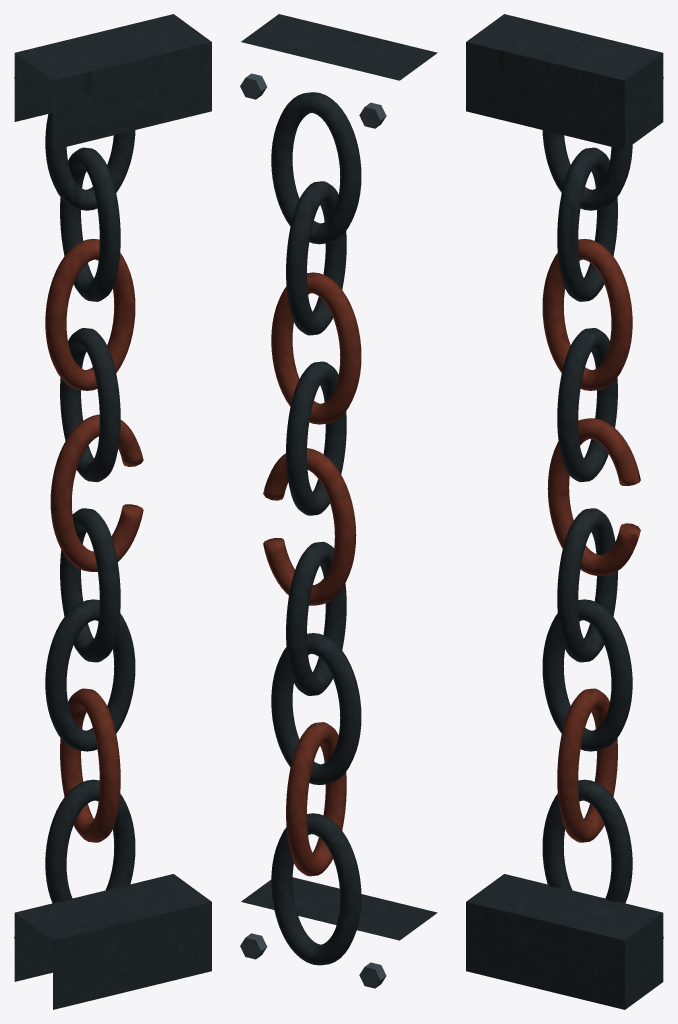
File: shutter_chain_broken.glb
3 renders of one model, left to right at view 1: azimuth 30°, elevation 25°; view 2: azimuth 150°, elevation 25°; view 3: azimuth 330°, elevation 25°, orthographic.
Visible parts, largest first — view 1: shutter_chain_broken_Mesh; view 2: shutter_chain_broken_Mesh; view 3: shutter_chain_broken_Mesh.
Boxes of the visible parts, box(x1,y1,x2,y2) form: shutter_chain_broken_Mesh: box(14, 14, 211, 1009); shutter_chain_broken_Mesh: box(240, 14, 437, 988); shutter_chain_broken_Mesh: box(466, 14, 663, 1009).
Bounding box in the file's own units: 0.12 × 0.67 × 0.088.
3 materials, 3 textured.
